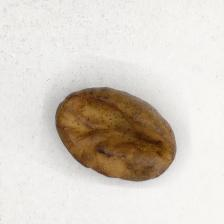NG: (74, 96, 153, 161)
